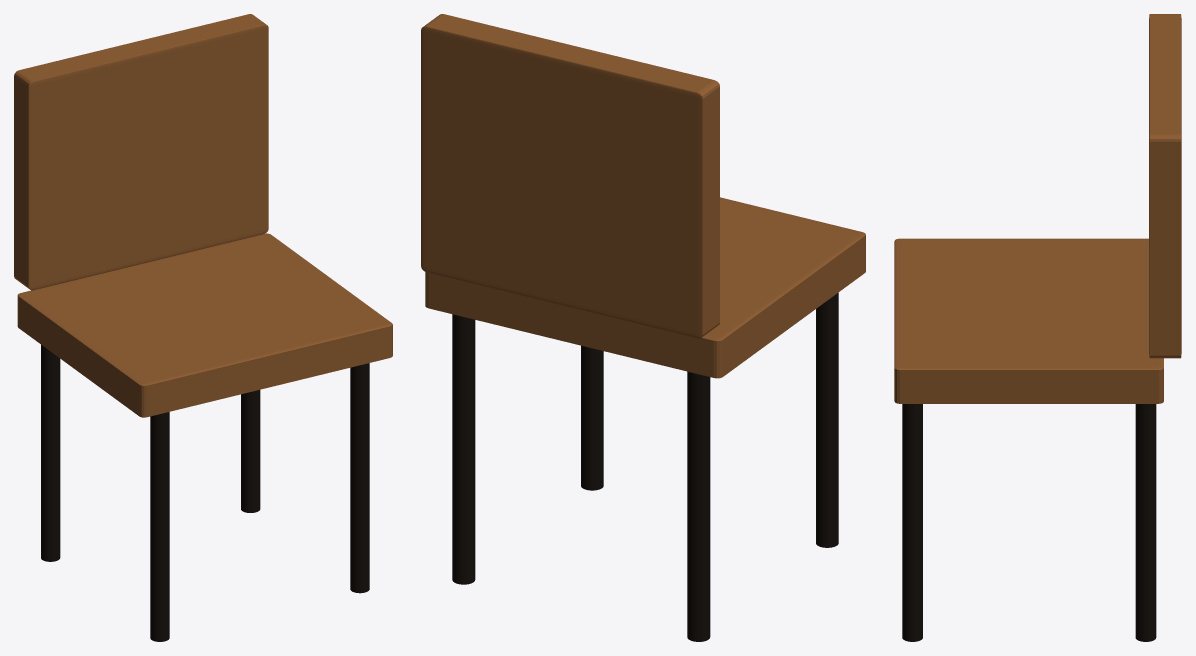
The model's file is chair_dining.glb.
3 views of the same model, side by side, from view 1: azimuth 30°, elevation 25°; view 2: azimuth 150°, elevation 25°; view 3: azimuth 270°, elevation 25° (orthographic). The views are drawn at different scales.
Parts seen in each view (by area): view 1: Cube.001, Cube, Cylinder, Cylinder.002, Cylinder.001, Cylinder.003; view 2: Cube.001, Cube, Cylinder.001, Cylinder.003, Cylinder, Cylinder.002; view 3: Cube, Cube.001, Cylinder.003, Cylinder.002.
Part boxes in pixels (<box>): Cube.001: <box>14,14,268,290</box>; Cube: <box>17,233,392,417</box>; Cylinder: <box>150,412,169,641</box>; Cylinder.002: <box>350,363,369,593</box>; Cylinder.001: <box>41,345,60,561</box>; Cylinder.003: <box>241,390,260,512</box>; Cube.001: <box>421,14,719,338</box>; Cube: <box>425,197,865,378</box>; Cylinder.001: <box>687,371,710,641</box>; Cylinder.003: <box>452,314,475,584</box>; Cylinder: <box>816,292,838,547</box>; Cylinder.002: <box>581,345,603,490</box>; Cube: <box>894,238,1163,403</box>; Cube.001: <box>1149,14,1181,358</box>; Cylinder.003: <box>1135,404,1156,641</box>; Cylinder.002: <box>902,404,922,641</box>.
Size of the model in its own units: 0.48 by 0.87 by 0.443.
